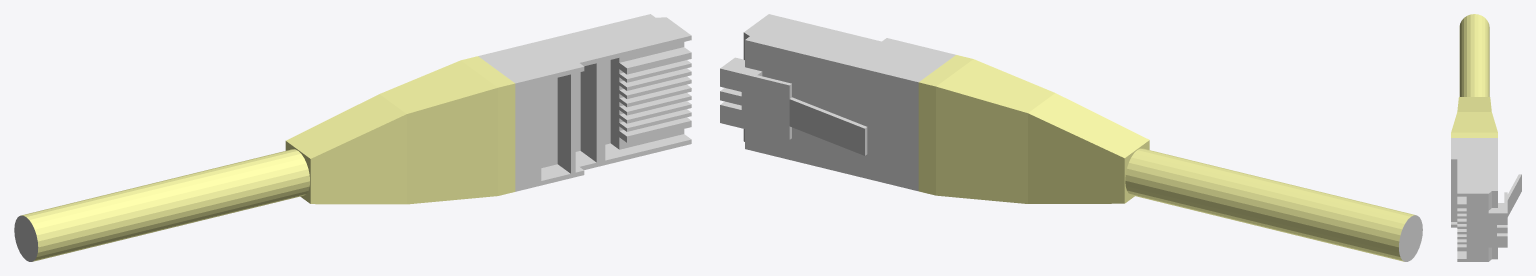
File: CableRJ45.fbx
The picture shows the model from 3 angles, left to right: view 1: azimuth 30°, elevation 25°; view 2: azimuth 150°, elevation 25°; view 3: azimuth 270°, elevation 25°; orthographic projection. The views are drawn at different scales.
Visible parts, largest first — view 1: imagetostl_mesh40, imagetostl_mesh101, imagetostl_mesh117, imagetostl_mesh63, imagetostl_mesh62, imagetostl_mesh23, imagetostl_mesh73, imagetostl_mesh9, imagetostl_mesh15, imagetostl_mesh108, imagetostl_mesh92, imagetostl_mesh58 (+24 smaller); view 2: imagetostl_mesh39, imagetostl_mesh65, imagetostl_mesh70, imagetostl_mesh117, imagetostl_mesh41, imagetostl_mesh62, imagetostl_mesh23, imagetostl_mesh55, imagetostl_mesh96, imagetostl_mesh120, imagetostl_mesh59, imagetostl_mesh110 (+11 smaller); view 3: imagetostl_mesh117, imagetostl_mesh85, imagetostl_mesh62, imagetostl_mesh34, imagetostl_mesh23, imagetostl_mesh80, imagetostl_mesh130, imagetostl_mesh89, imagetostl_mesh106, imagetostl_mesh131, imagetostl_mesh2, imagetostl_mesh124 (+16 smaller).
Part boxes in pixels (x1,y1,x2,y2): imagetostl_mesh40: (407,88,497,204); imagetostl_mesh101: (310,114,406,204); imagetostl_mesh117: (478,14,691,83); imagetostl_mesh63: (515,67,584,191); imagetostl_mesh62: (380,60,497,113); imagetostl_mesh23: (286,94,406,158); imagetostl_mesh73: (498,83,515,195); imagetostl_mesh9: (36,169,309,241); imagetostl_mesh15: (35,163,308,235); imagetostl_mesh108: (38,175,309,247); imagetostl_mesh92: (32,158,306,229); imagetostl_mesh58: (38,181,309,252); imagetostl_mesh39: (745,40,918,191); imagetostl_mesh65: (936,86,1027,203); imagetostl_mesh70: (1028,113,1124,203); imagetostl_mesh117: (744,14,955,82); imagetostl_mesh41: (720,68,789,139); imagetostl_mesh62: (936,59,1054,112); imagetostl_mesh23: (1028,93,1149,158); imagetostl_mesh55: (789,99,864,155); imagetostl_mesh96: (918,82,935,195); imagetostl_mesh120: (1125,168,1400,241); imagetostl_mesh59: (1127,163,1402,235); imagetostl_mesh110: (1125,175,1399,247); imagetostl_mesh117: (1451,138,1497,193); imagetostl_mesh85: (1457,193,1488,261); imagetostl_mesh62: (1451,112,1497,132); imagetostl_mesh34: (1488,213,1507,247); imagetostl_mesh23: (1457,97,1491,111); imagetostl_mesh80: (1451,162,1457,221); imagetostl_mesh130: (1474,14,1478,96); imagetostl_mesh89: (1470,14,1474,96); imagetostl_mesh106: (1478,14,1481,96); imagetostl_mesh131: (1467,14,1470,96); imagetostl_mesh2: (1482,16,1485,96); imagetostl_mesh124: (1451,132,1497,137).
Size of the model in its own units: 301 by 47.24 by 44.49.
